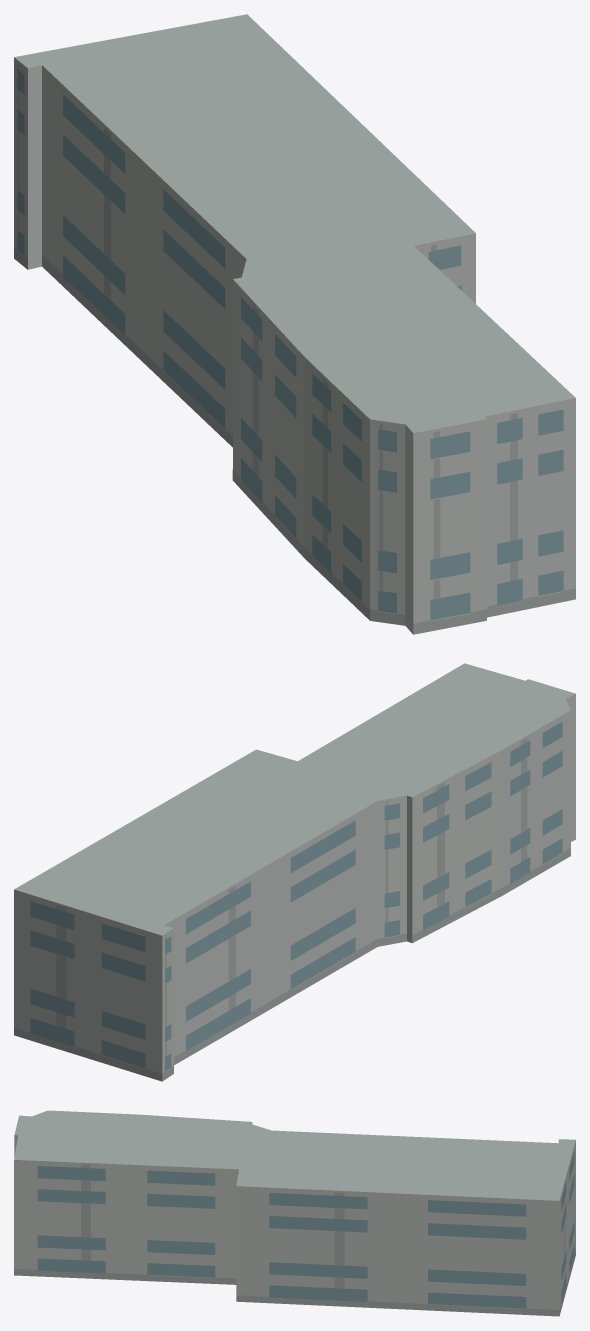
The model's file is survey-upis-32504571.glb.
3 views of the same model, one above another, from view 1: azimuth 30°, elevation 25°; view 2: azimuth 150°, elevation 25°; view 3: azimuth 270°, elevation 25° (orthographic). The views are drawn at different scales.
Parts seen in each view (by area): view 1: survey-upis-32504571.tmp; view 2: survey-upis-32504571.tmp; view 3: survey-upis-32504571.tmp.
Boxes of the visible parts, x1,y1,x2,y2 form: survey-upis-32504571.tmp: (14, 14, 575, 634); survey-upis-32504571.tmp: (14, 663, 575, 1081); survey-upis-32504571.tmp: (14, 1110, 575, 1316).
Bounding box in the file's own units: 25.6 × 15.25 × 67.19.
